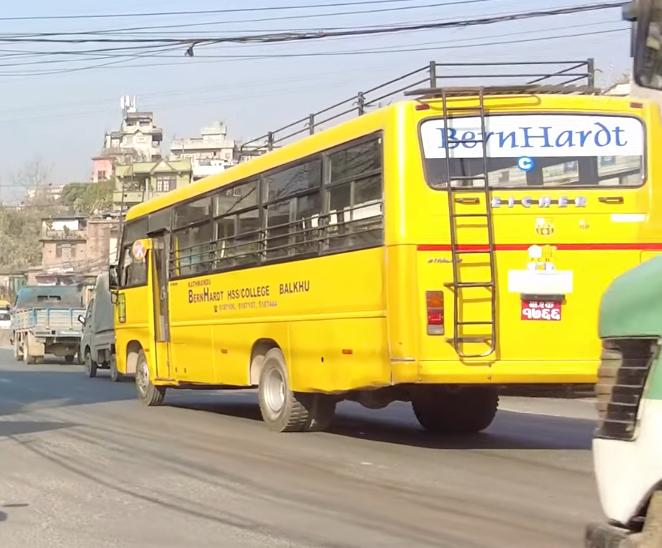school_bus: (105, 51, 662, 445)
